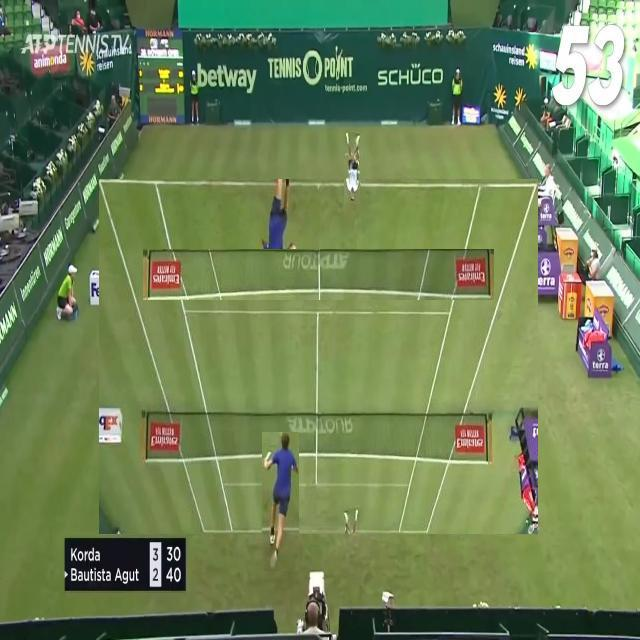court: (100, 179, 540, 534)
net: (144, 249, 494, 300)
player: (263, 432, 299, 571), (346, 132, 362, 206)
